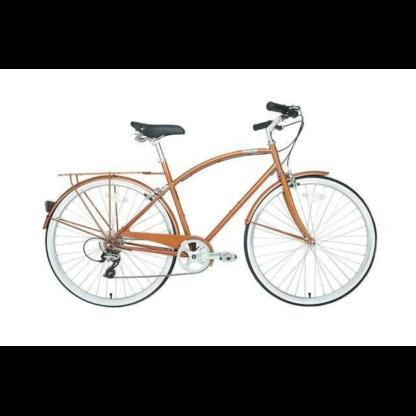Bicycle: (38, 86, 382, 310)
